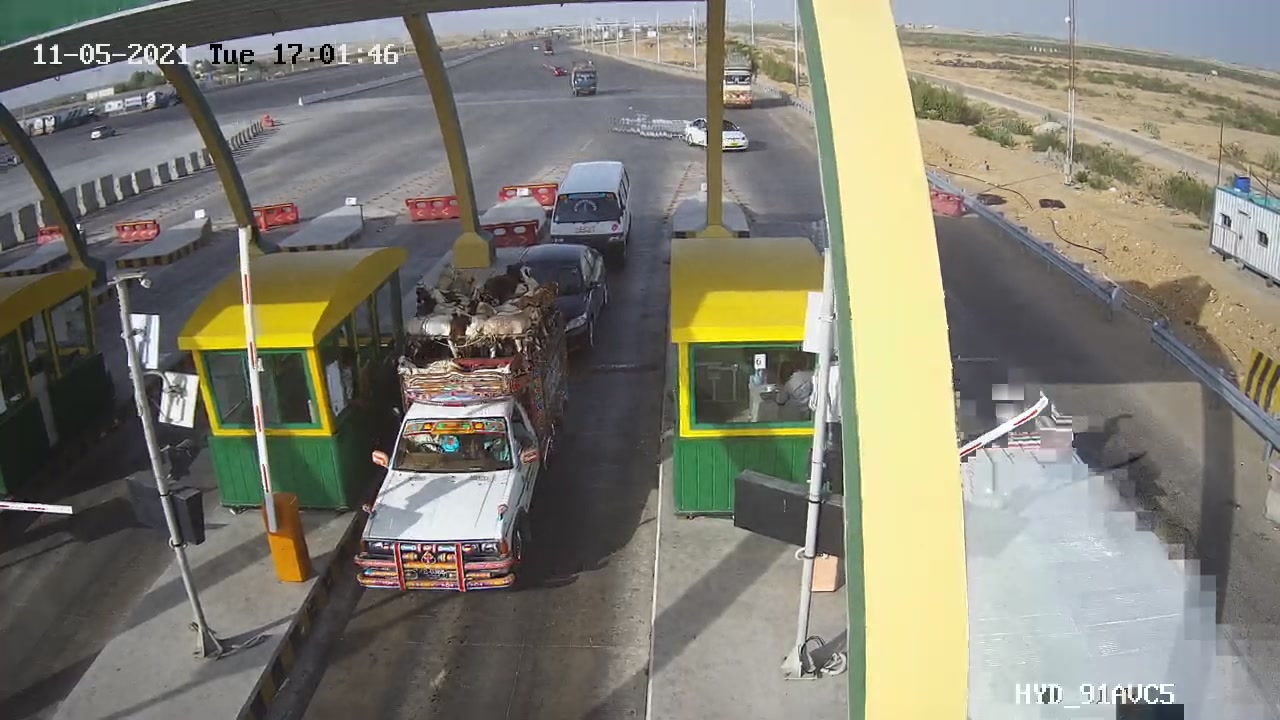F1: (340, 260, 585, 612)
F2: (533, 152, 643, 278)
